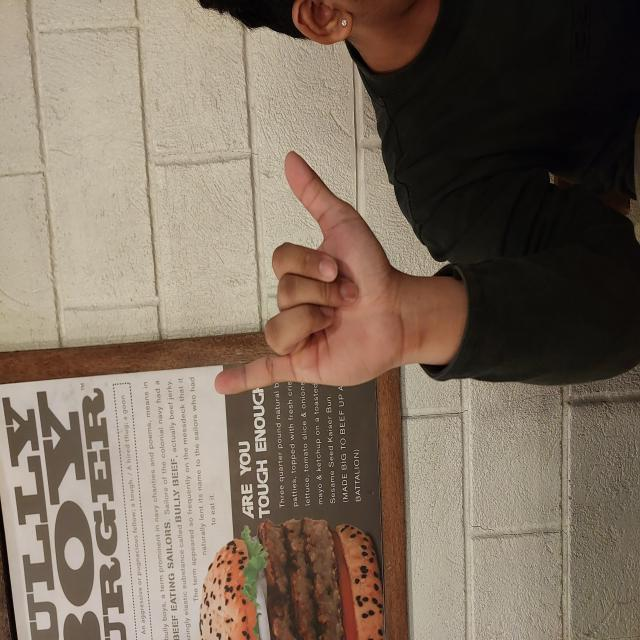Y: (244, 213, 492, 407)
